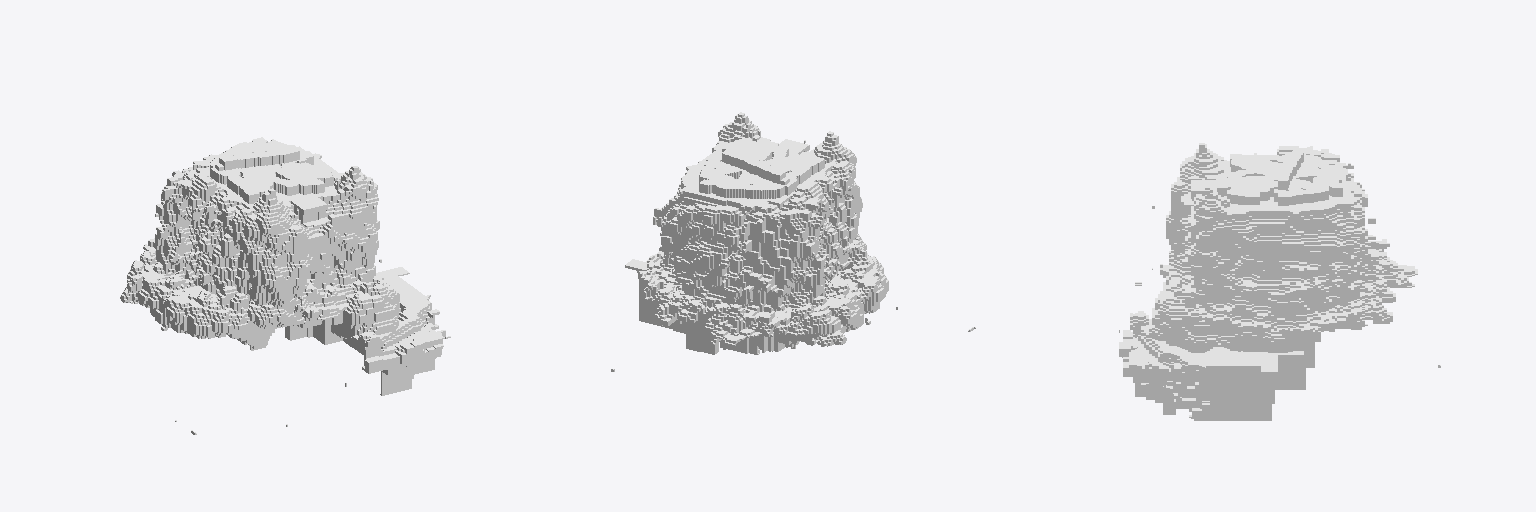
The model's file is Lava_stuff-26.obj.
3 views of the same model, side by side, from view 1: azimuth 30°, elevation 25°; view 2: azimuth 150°, elevation 25°; view 3: azimuth 270°, elevation 25° (orthographic).
Visible parts, largest first — view 1: object 1; view 2: object 1; view 3: object 1.
Boxes of the visible parts, x1=… form: object 1: x1=120, y1=137, x2=450, y2=434; object 1: x1=611, y1=112, x2=975, y2=371; object 1: x1=1119, y1=143, x2=1440, y2=420.
Size of the model in its own units: 24.1 by 16 by 23.3.